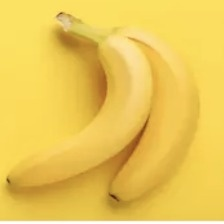banana: (7, 37, 175, 190)
